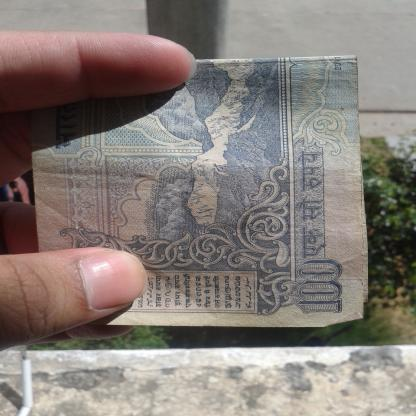Old100Back: (24, 54, 371, 330)
